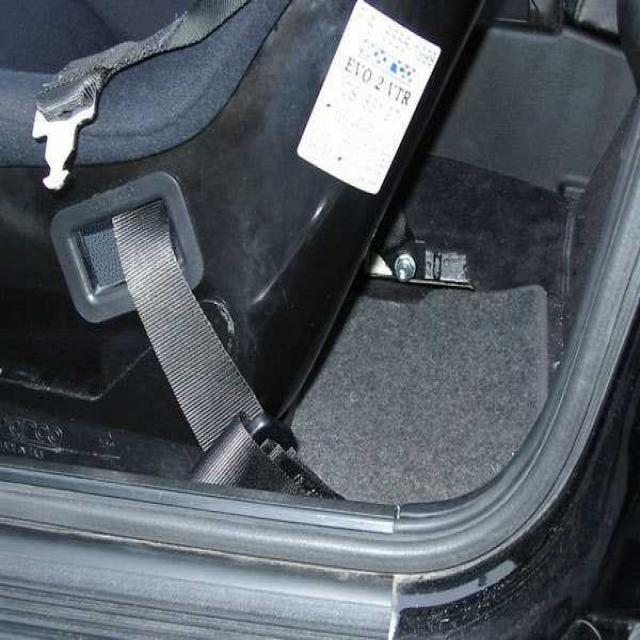seatbelt: (90, 173, 312, 504)
